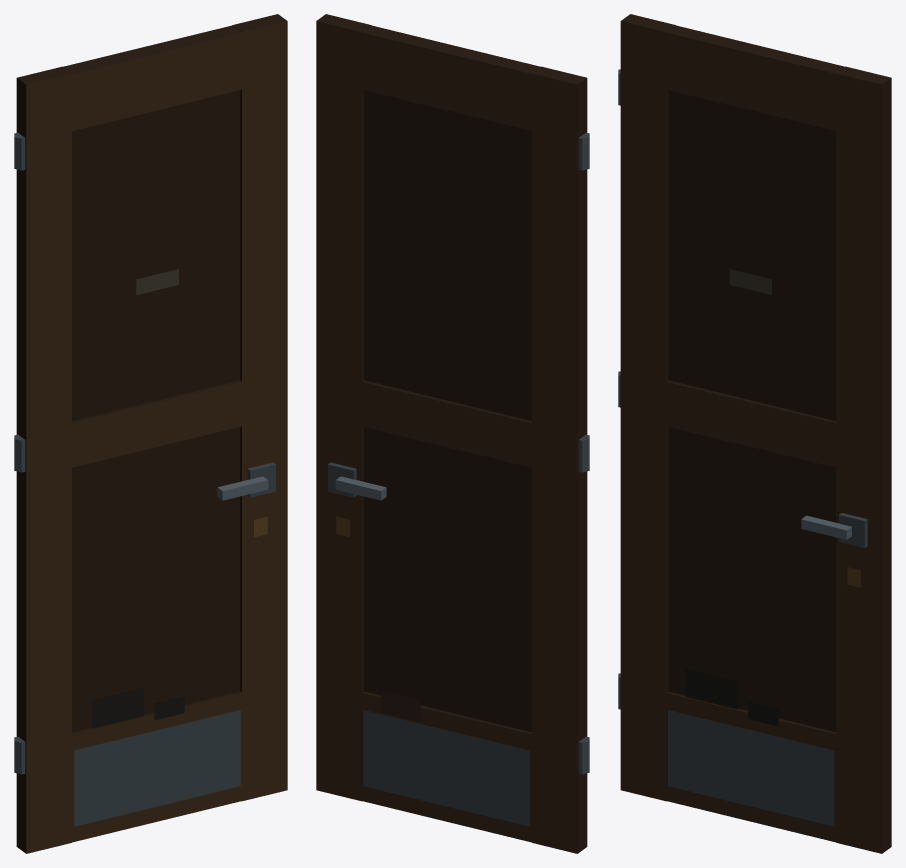
Rendered from lp_door_leaf.glb.
3 views of the same model, side by side, from view 1: azimuth 30°, elevation 25°; view 2: azimuth 150°, elevation 25°; view 3: azimuth 330°, elevation 25° (orthographic).
Visible parts, largest first — view 1: lp_door_leaf; view 2: lp_door_leaf; view 3: lp_door_leaf.
Part boxes in pixels (<box>): lp_door_leaf: <box>14,14,287,853</box>; lp_door_leaf: <box>316,14,589,853</box>; lp_door_leaf: <box>618,14,891,853</box>.
Size of the model in its own units: 0.884 by 2.42 by 0.145.
Materials: 1 (1 with a texture image).
